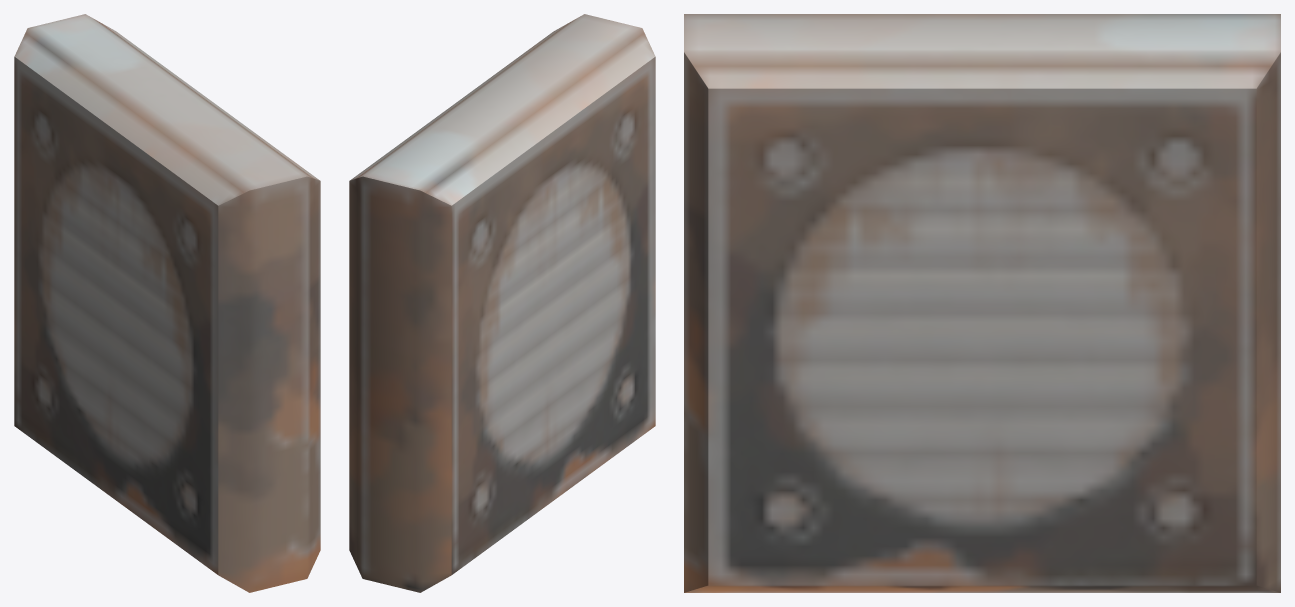
File: SM_ExhaustFan.fbx
3 views of the same model, side by side, from view 1: azimuth 30°, elevation 25°; view 2: azimuth 150°, elevation 25°; view 3: azimuth 270°, elevation 25° (orthographic). The views are drawn at different scales.
Parts seen in each view (by area): view 1: OutDoor_New; view 2: OutDoor_New; view 3: OutDoor_New.
Boxes of the visible parts, x1,y1,x2,y2 form: OutDoor_New: [14, 14, 320, 592]; OutDoor_New: [349, 14, 655, 592]; OutDoor_New: [684, 14, 1280, 592].
Size of the model in its own units: 0.2298 by 0.8641 by 0.8641.
1 material, 1 textured.
